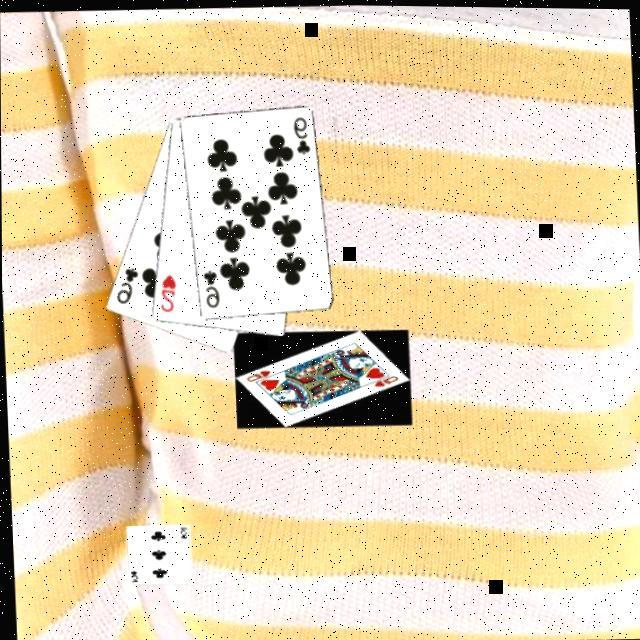2H: (153, 271, 176, 315)
9C: (109, 264, 139, 307), (287, 113, 310, 157), (197, 266, 218, 310)
